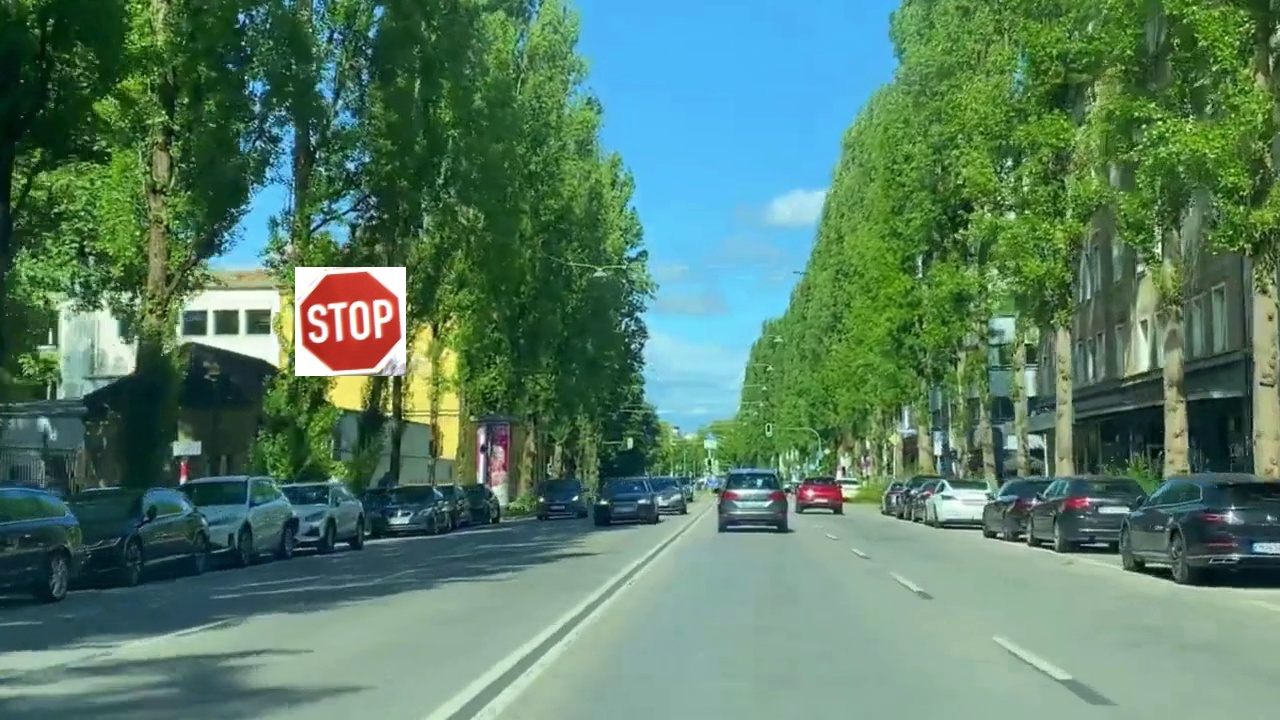Stop: (295, 267, 406, 376)
